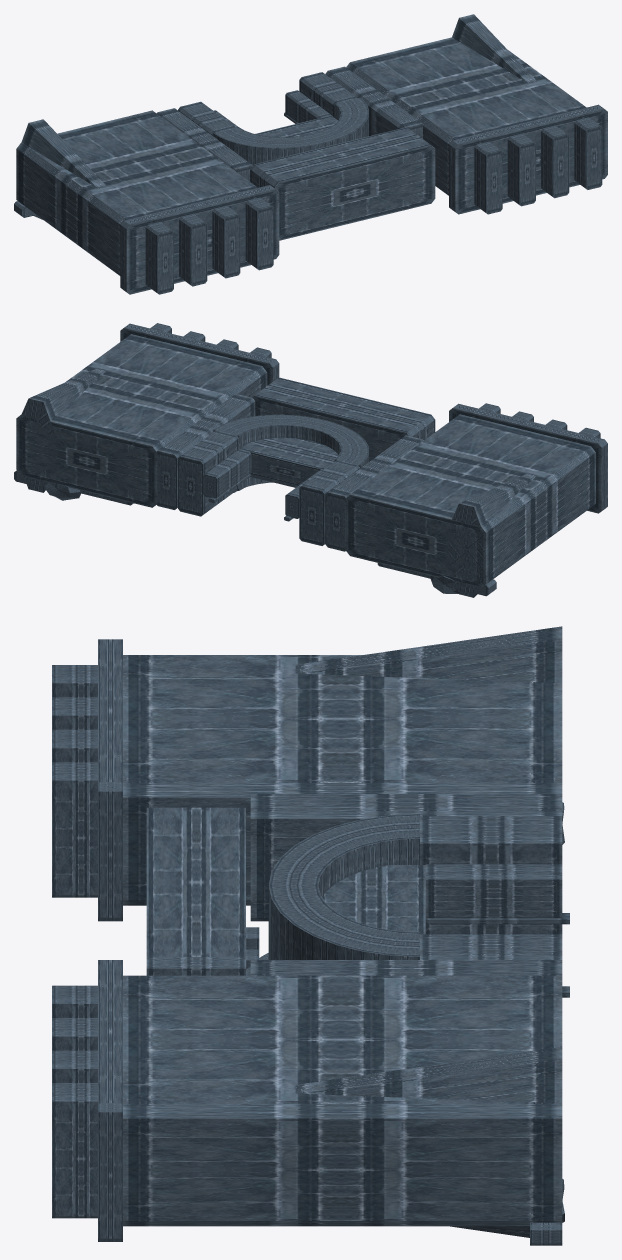
Rendered from rv_gatehouse_facade.obj.
The picture shows the model from 3 angles, top to bottom: view 1: azimuth 30°, elevation 25°; view 2: azimuth 150°, elevation 25°; view 3: azimuth 270°, elevation 25°; orthographic projection. The views are drawn at different scales.
Parts seen in each view (by area): view 1: rv_gatehouse_facade; view 2: rv_gatehouse_facade; view 3: rv_gatehouse_facade.
Boxes of the visible parts, <box> form: rv_gatehouse_facade: <box>14,14,607,294</box>; rv_gatehouse_facade: <box>14,323,607,597</box>; rv_gatehouse_facade: <box>52,626,569,1245</box>.
Bounding box in the file's own units: 24.6 × 4.77 × 11.47.
1 material, 1 textured.
